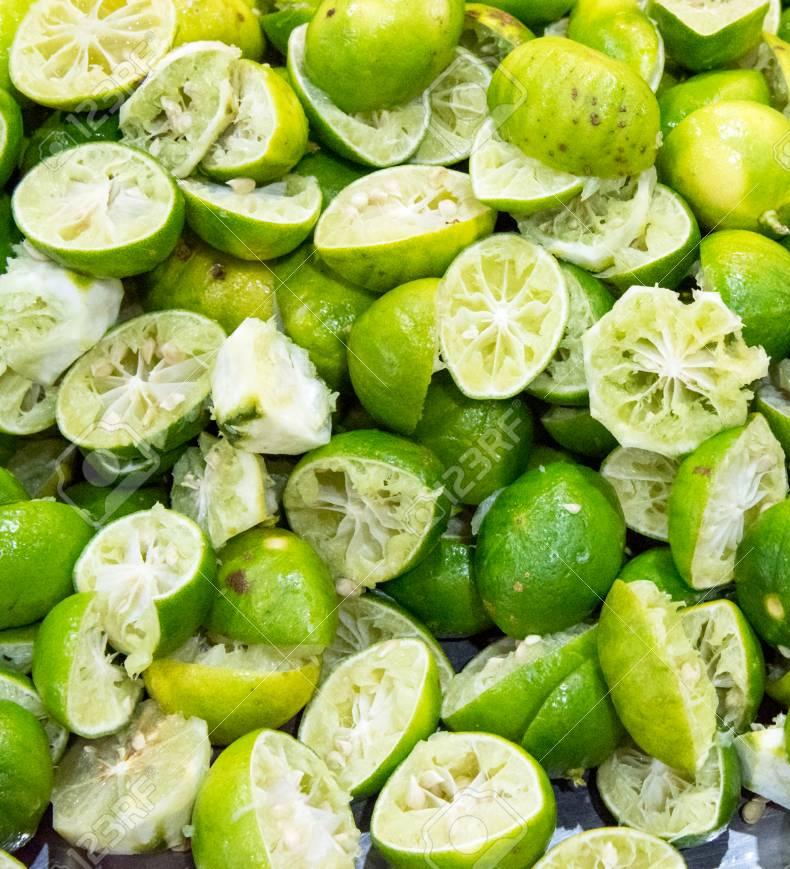organic: (581, 282, 772, 456), (475, 459, 624, 641), (45, 698, 211, 855), (284, 432, 448, 589), (371, 732, 558, 868), (487, 34, 660, 179), (313, 162, 497, 297), (12, 140, 188, 279), (57, 308, 231, 448), (191, 724, 357, 869), (596, 581, 719, 776), (299, 639, 443, 804), (72, 506, 210, 665), (436, 234, 567, 400), (669, 415, 790, 588), (440, 620, 603, 741), (305, 0, 467, 113), (10, 0, 174, 110), (119, 40, 248, 178), (143, 647, 321, 745), (594, 731, 744, 840), (31, 592, 142, 736), (348, 277, 438, 435), (177, 167, 323, 258), (469, 120, 592, 217), (589, 183, 705, 285), (600, 435, 696, 543), (650, 0, 775, 68)
